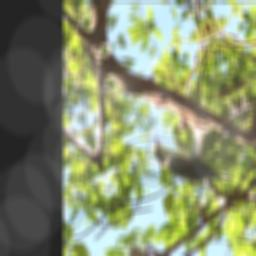Cuckoo: (149, 108, 236, 210)
